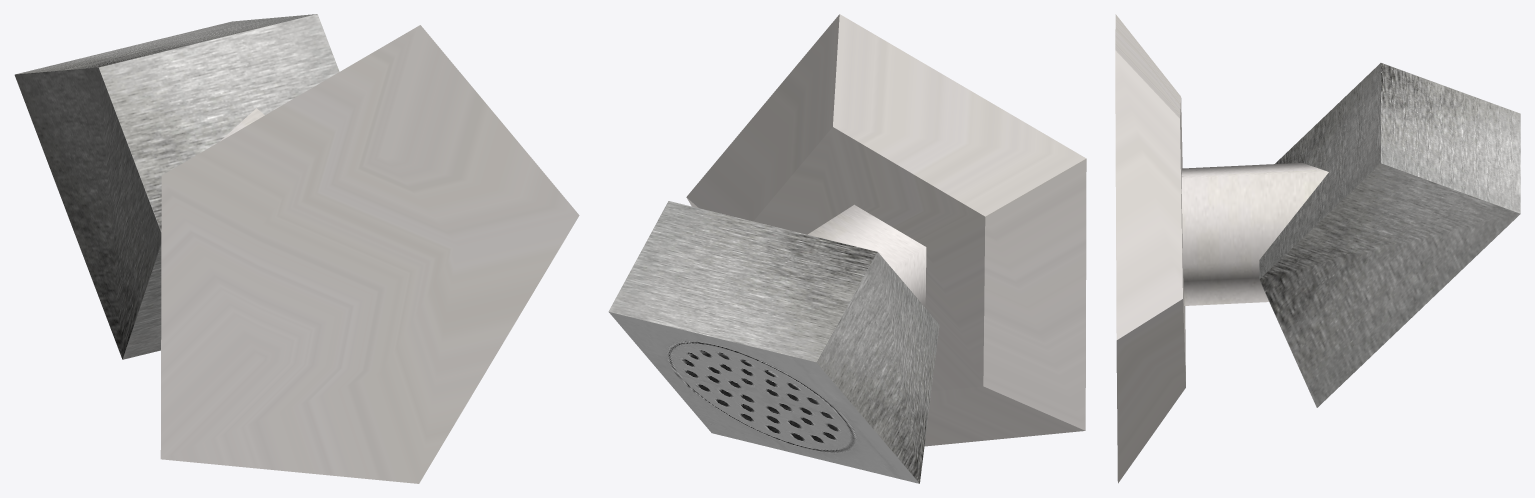
Rendered from shower head.FBX.
3 renders of one model, left to right at view 1: azimuth 30°, elevation 25°; view 2: azimuth 150°, elevation 25°; view 3: azimuth 270°, elevation 25°, orthographic. The views are drawn at different scales.
Parts seen in each view (by area): view 1: Cylinder004, Box002; view 2: Cylinder004, Box002, Object006; view 3: Box002, Cylinder004.
Boxes of the visible parts, <box> form: Cylinder004: <box>160,25,579,483</box>; Box002: <box>14,14,339,359</box>; Cylinder004: <box>686,14,1086,446</box>; Box002: <box>608,201,939,483</box>; Object006: <box>609,312,919,483</box>; Box002: <box>1259,63,1520,407</box>; Cylinder004: <box>1115,14,1328,483</box>.
Bounding box in the file's own units: 12.18 × 12.8 × 10.85.
3 materials, 3 textured.
